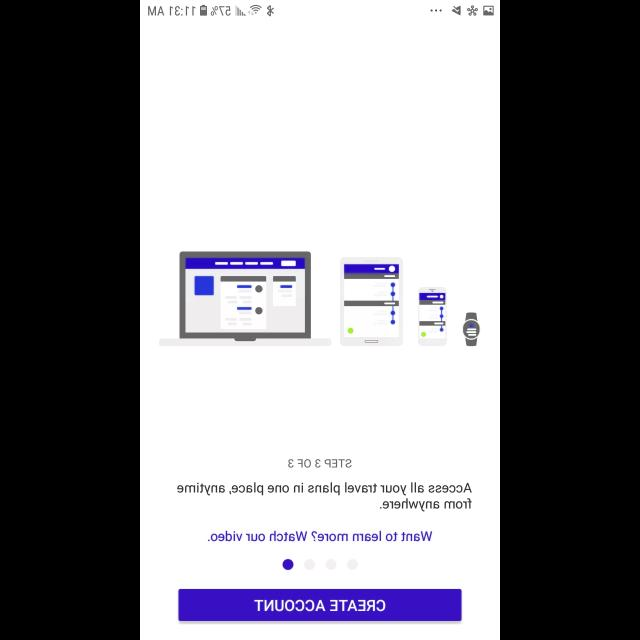image: (159, 252, 481, 346)
pageindicator: (282, 558, 358, 570)
text: (176, 482, 472, 512), (208, 530, 432, 542), (288, 459, 352, 469)
textbutton: (178, 589, 462, 621)
uppertaskbar: (140, 1, 500, 18)
